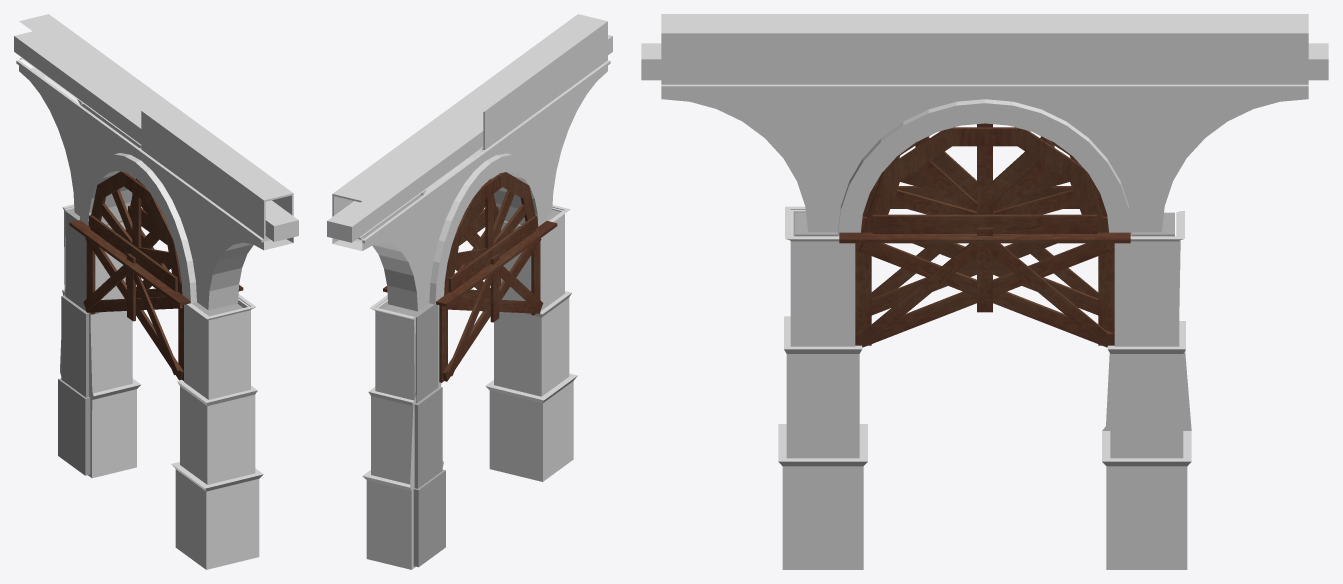
The model's file is CustomAqueduct.fbx.
The picture shows the model from 3 angles, left to right: view 1: azimuth 30°, elevation 25°; view 2: azimuth 150°, elevation 25°; view 3: azimuth 270°, elevation 25°; orthographic projection. The views are drawn at different scales.
Visible parts, largest first — view 1: Pillar, Top2, Top1, Pillar.001, Cube.005, Cube.007, Arch, Cube.013, Cube.014, Cylinder.002, Cube.015, Cube.001 (+5 smaller); view 2: Pillar, Top2, Pillar.001, Top1, Cube.005, Cube.007, Arch, Cube.013, Cube.014, Cube.015, Cylinder.002, Cube.001 (+5 smaller); view 3: Top1, Top2, Pillar.001, Pillar, Cube.007, Arch, Cylinder.002, Cube.001, Cube.003, Cube, Cube.004, Cube.005 (+2 smaller).
Boxes of the visible parts, x1,y1,x2,y2 form: Pillar: (171,294,263,569); Top2: (138,103,293,310); Top1: (16,14,170,215); Pillar.001: (60,204,140,478); Cube.005: (14,31,298,241); Cube.007: (83,205,183,380); Arch: (80,148,196,303); Cube.013: (58,378,90,475); Cube.014: (61,295,88,397); Cylinder.002: (89,171,181,294); Cube.015: (65,209,86,311); Cube.001: (90,208,177,291); Pillar: (485,205,577,481); Top2: (455,14,610,216); Pillar.001: (362,295,443,569); Top1: (332,104,487,311); Cube.005: (327,35,612,242); Cube.007: (439,206,543,382); Arch: (424,149,546,304); Cube.013: (413,469,445,567); Cube.014: (414,386,442,488); Cube.015: (383,303,438,403); Cylinder.002: (444,172,537,295); Cube.001: (448,208,536,292); Top1: (985,14,1308,232); Top2: (661,14,984,232); Pillar.001: (1102,211,1191,569); Pillar: (778,206,867,569); Cube.007: (855,193,1114,347); Arch: (838,99,1131,236); Cylinder.002: (862,127,1107,232); Cube.001: (872,186,1097,233); Cube.003: (915,136,1054,211); Cube: (839,205,1130,243); Cube.004: (892,170,1077,214); Cube.005: (641,43,1328,80).
Bounding box in the file's own units: 240 × 1443 × 1699.
